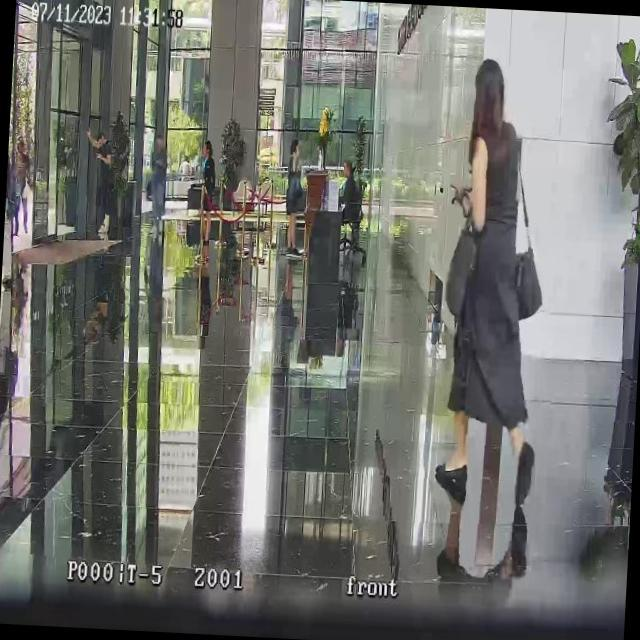person: (439, 56, 556, 436), (500, 422, 537, 580), (82, 127, 116, 235), (5, 132, 36, 240), (336, 160, 366, 255), (284, 136, 308, 252), (197, 140, 218, 248), (148, 134, 170, 237)
